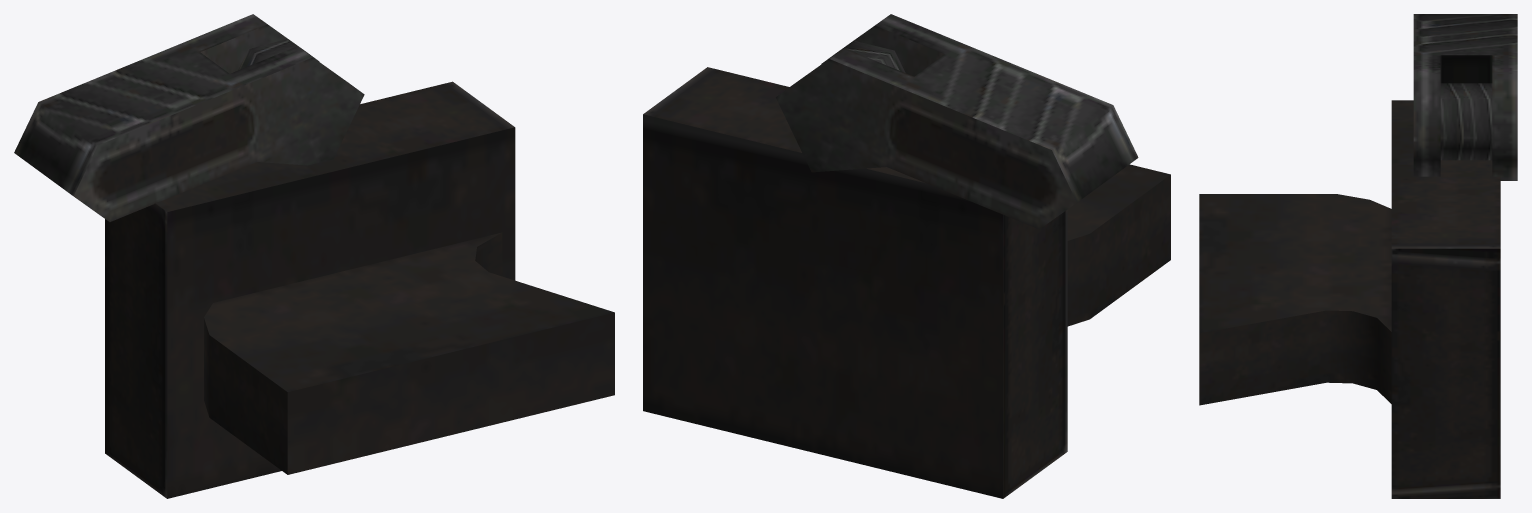
File: t6_attach_optic_dualband_mount_world_LOD0.obj
3 views of the same model, side by side, from view 1: azimuth 30°, elevation 25°; view 2: azimuth 150°, elevation 25°; view 3: azimuth 270°, elevation 25° (orthographic). The views are drawn at different scales.
Parts seen in each view (by area): view 1: mtl_t6_attach_optic_dualband, mtl_t6_attach_optic_dualband_camo2; view 2: mtl_t6_attach_optic_dualband, mtl_t6_attach_optic_dualband_camo2; view 3: mtl_t6_attach_optic_dualband, mtl_t6_attach_optic_dualband_camo2.
Boxes of the visible parts, box(x1,y1,x2,y2) form: mtl_t6_attach_optic_dualband: box(73, 24, 614, 498); mtl_t6_attach_optic_dualband_camo2: box(14, 14, 354, 195); mtl_t6_attach_optic_dualband: box(643, 25, 1170, 498); mtl_t6_attach_optic_dualband_camo2: box(782, 14, 1138, 202); mtl_t6_attach_optic_dualband: box(1199, 55, 1500, 498); mtl_t6_attach_optic_dualband_camo2: box(1413, 14, 1517, 180).
Size of the model in its own units: 4.61 by 4.04 by 3.39.
